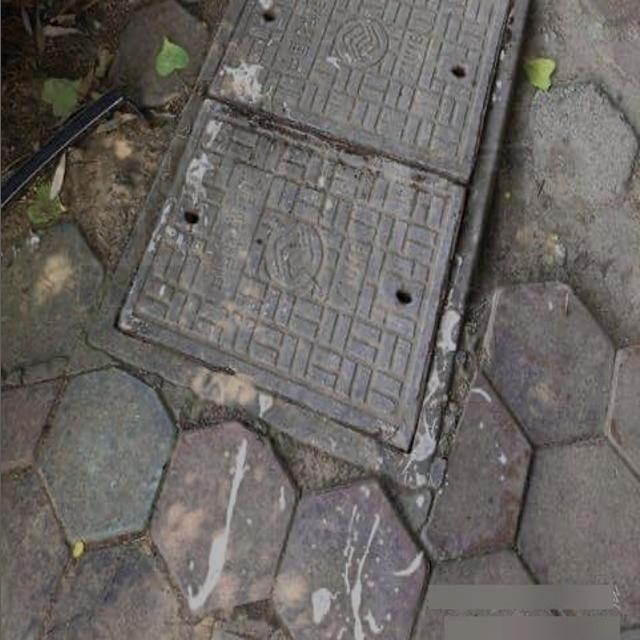good: (87, 0, 529, 487)
